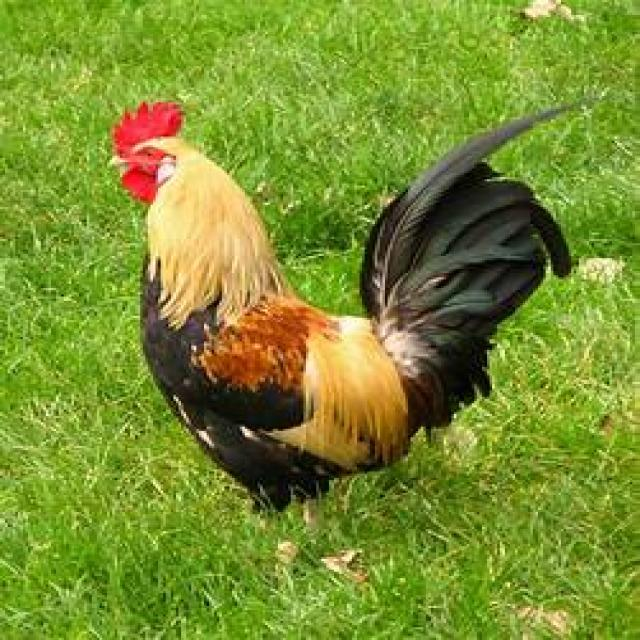hen: (110, 100, 574, 514)
